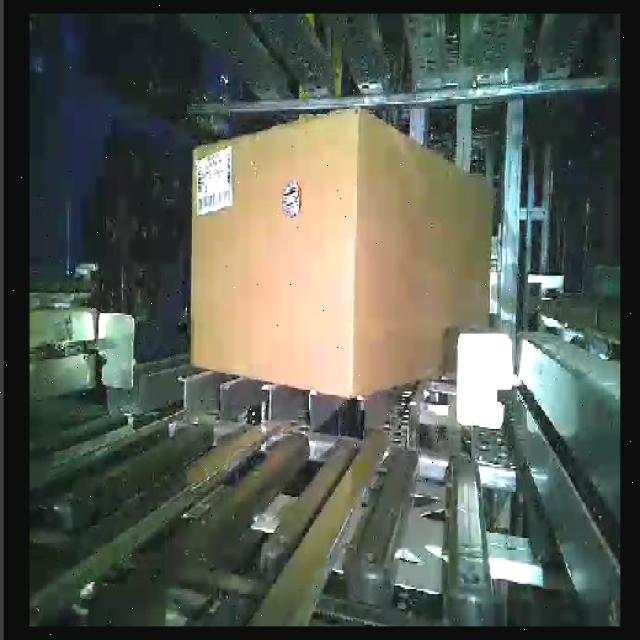box: (352, 106, 495, 403)
